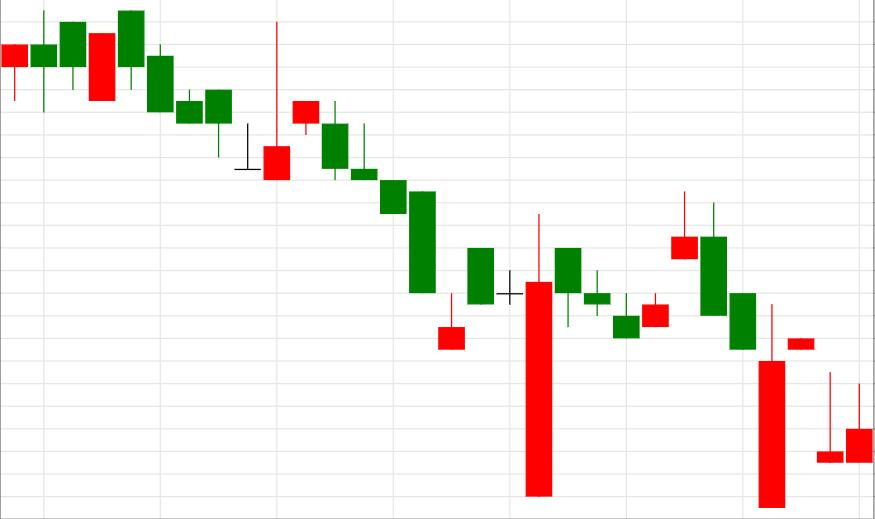inverse_hammer_rise: (118, 11, 291, 181)
